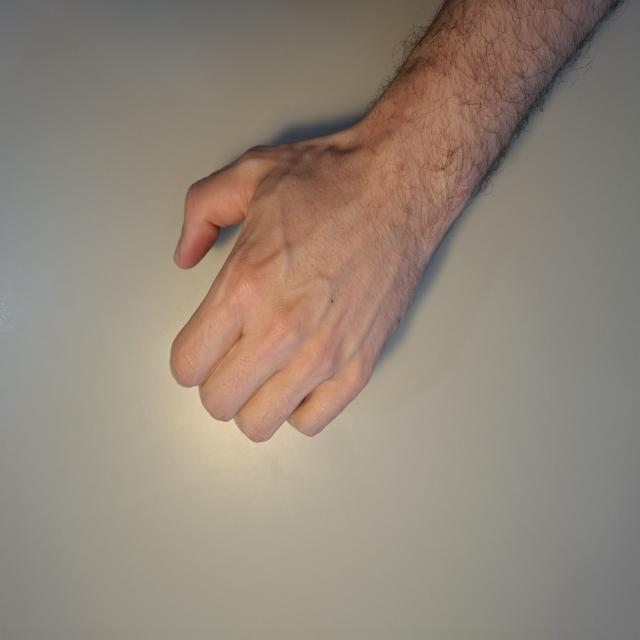glove_off: (170, 108, 446, 444)
